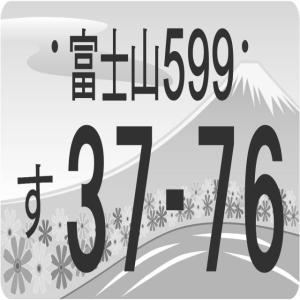Plate: (0, 0, 300, 300)
